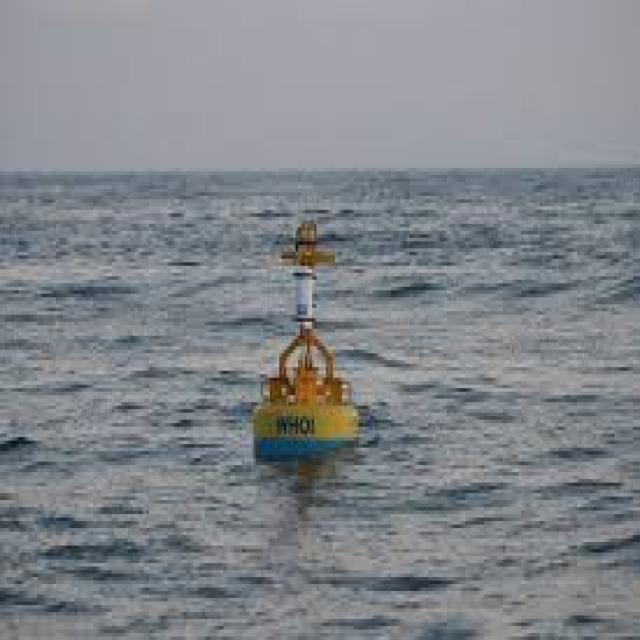buoy: (235, 181, 376, 489)
